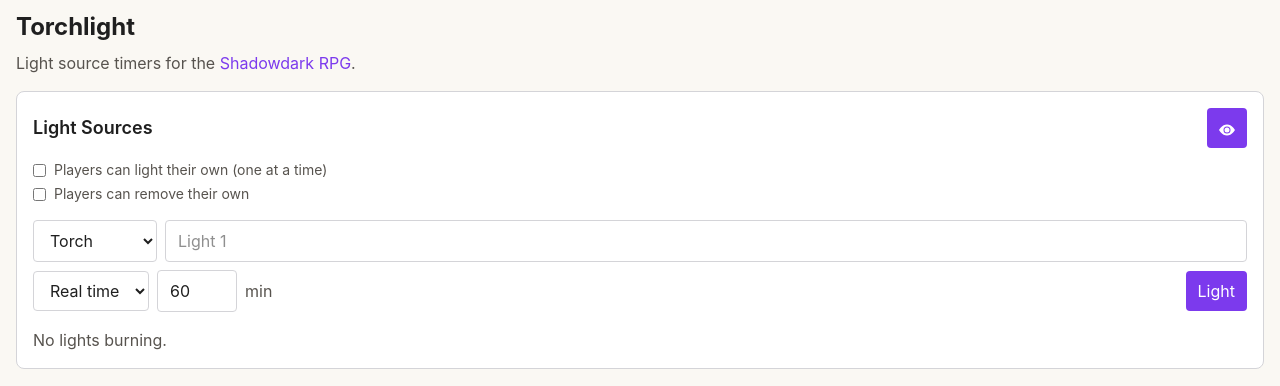
Scenario: Main (Torchlight) › blocks adding with an invalid amount
Step 1. Replace the text in the number field named "Minutes" with "0" → (197, 291), box [157,270,237,312]
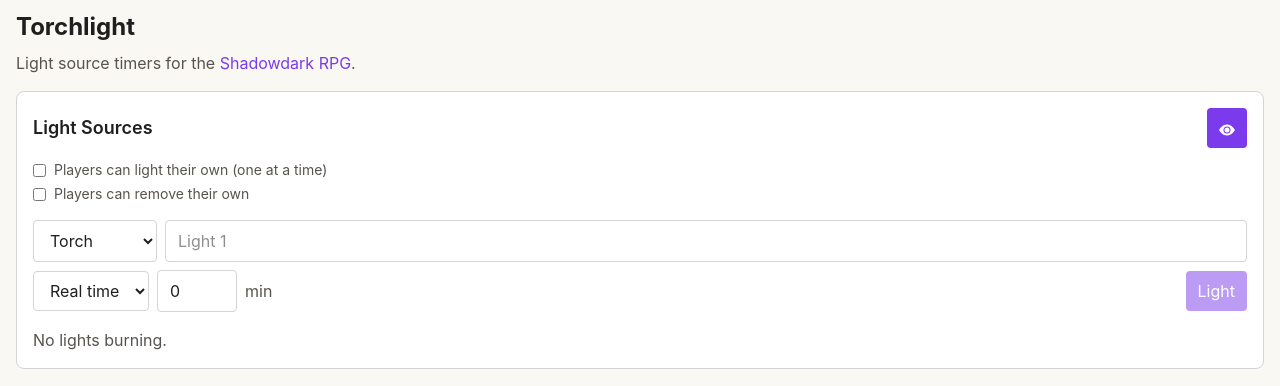
Check: the button "Light" is disabled, box [1186,271,1247,311]
